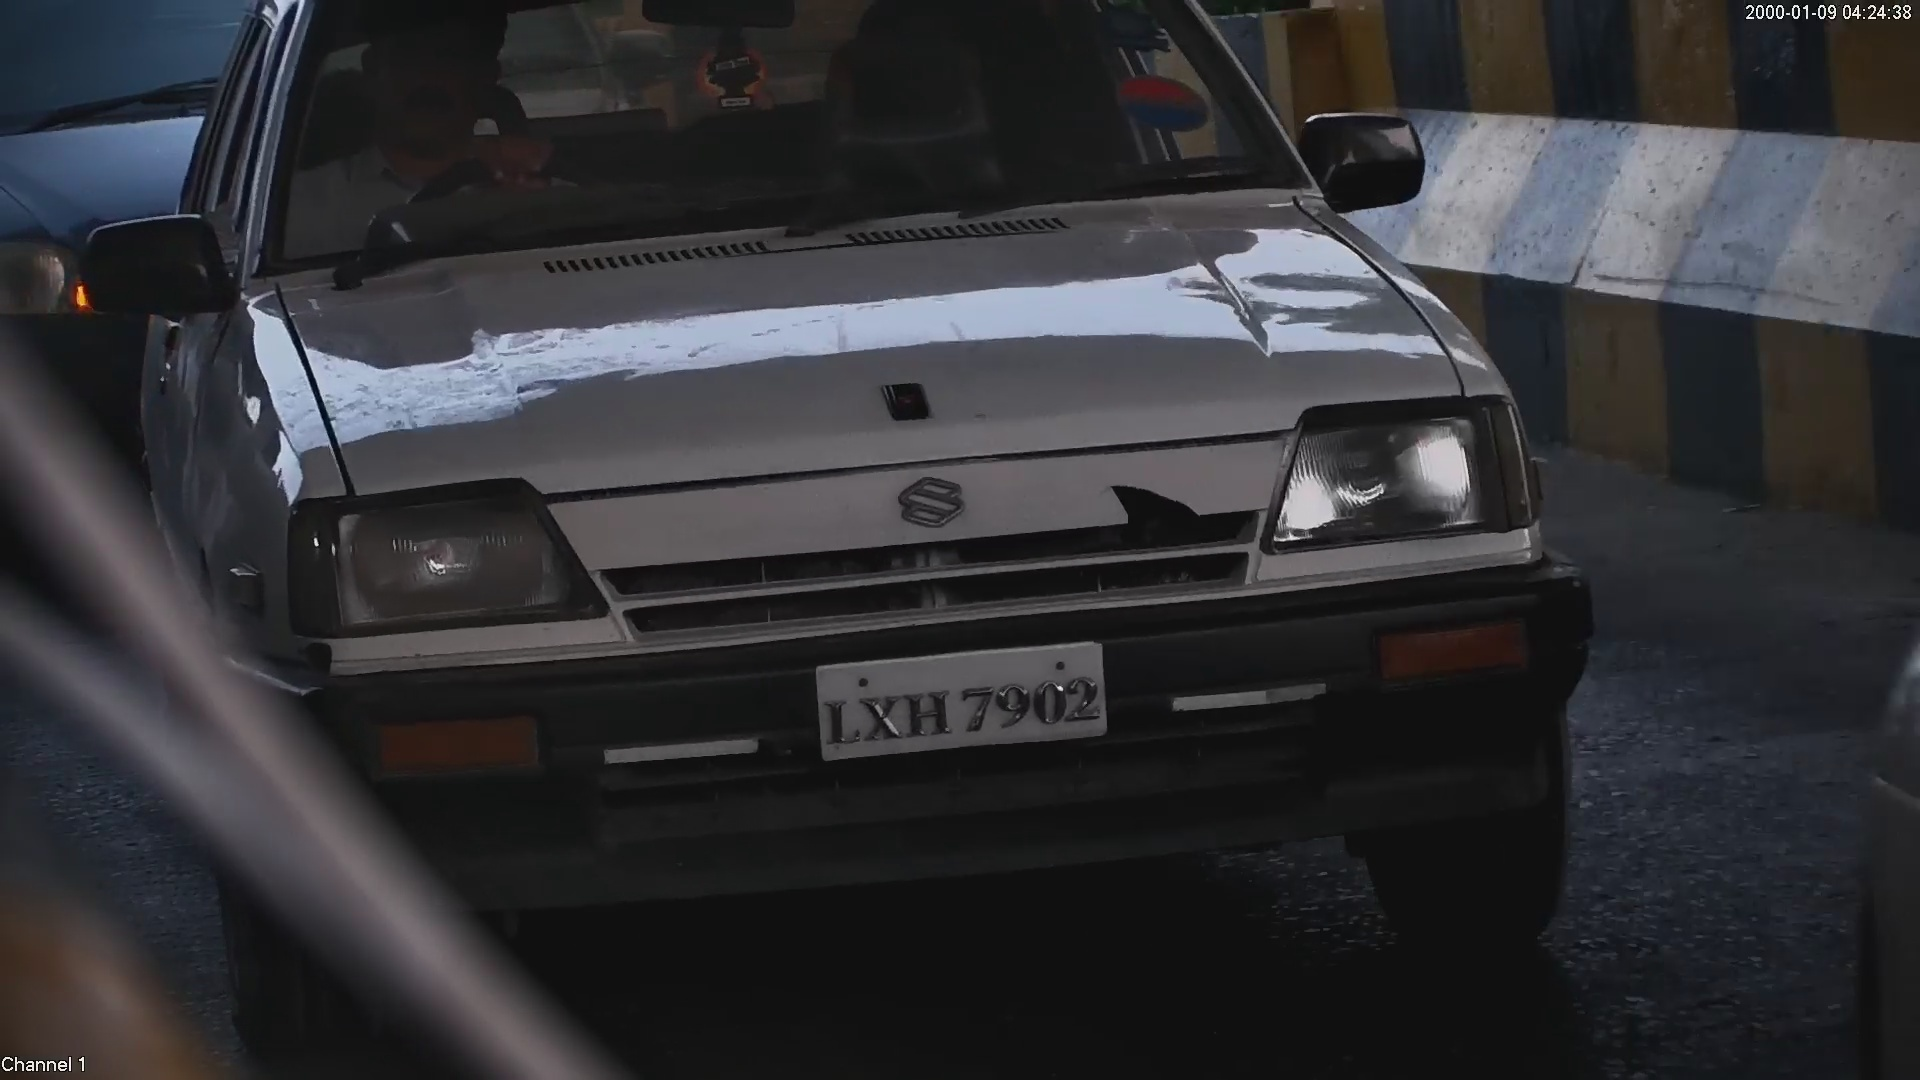Number_Plate: (806, 636, 1132, 762)
Undefined: (278, 488, 571, 627), (1287, 407, 1530, 546), (360, 707, 554, 777), (1360, 614, 1550, 683), (889, 466, 973, 531)
